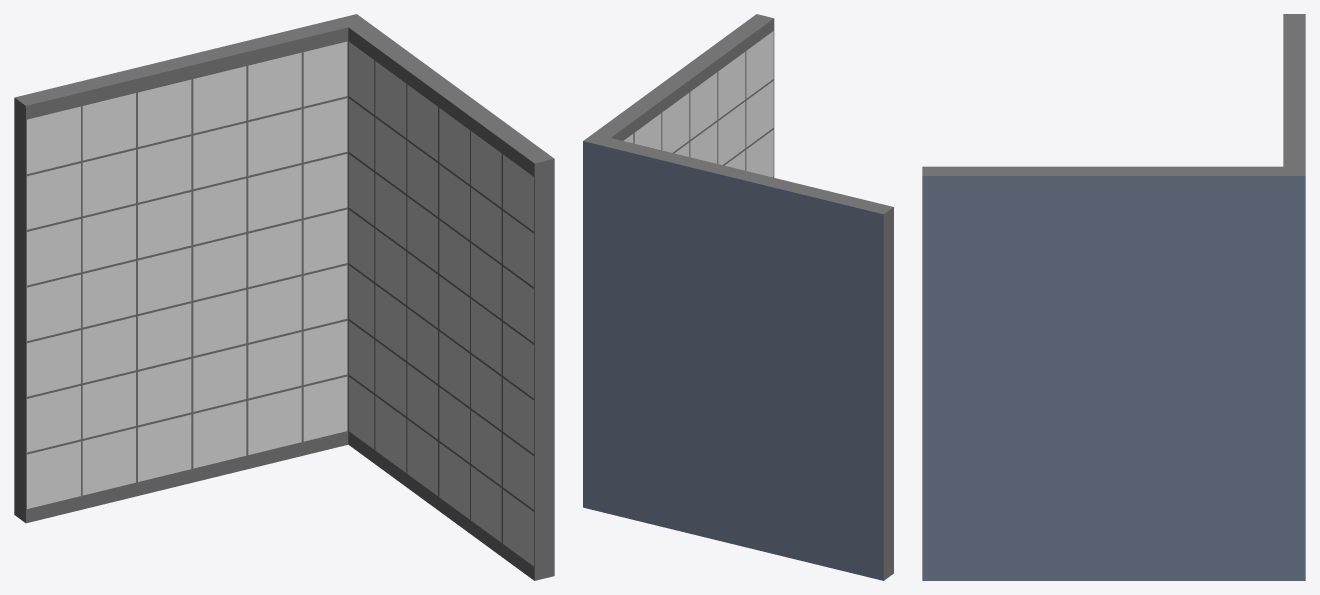
The model's file is Wall3_C7_06.fbx.
3 views of the same model, side by side, from view 1: azimuth 30°, elevation 25°; view 2: azimuth 150°, elevation 25°; view 3: azimuth 270°, elevation 25° (orthographic). The views are drawn at different scales.
Visible parts, largest first — view 1: Wall3_C7_06; view 2: Wall3_C7_06; view 3: Wall3_C7_06.
Boxes of the visible parts, <box> form: Wall3_C7_06: <box>14,14,554,580</box>; Wall3_C7_06: <box>583,14,893,580</box>; Wall3_C7_06: <box>922,14,1305,580</box>.
Size of the model in its own units: 258 by 300 by 258.
